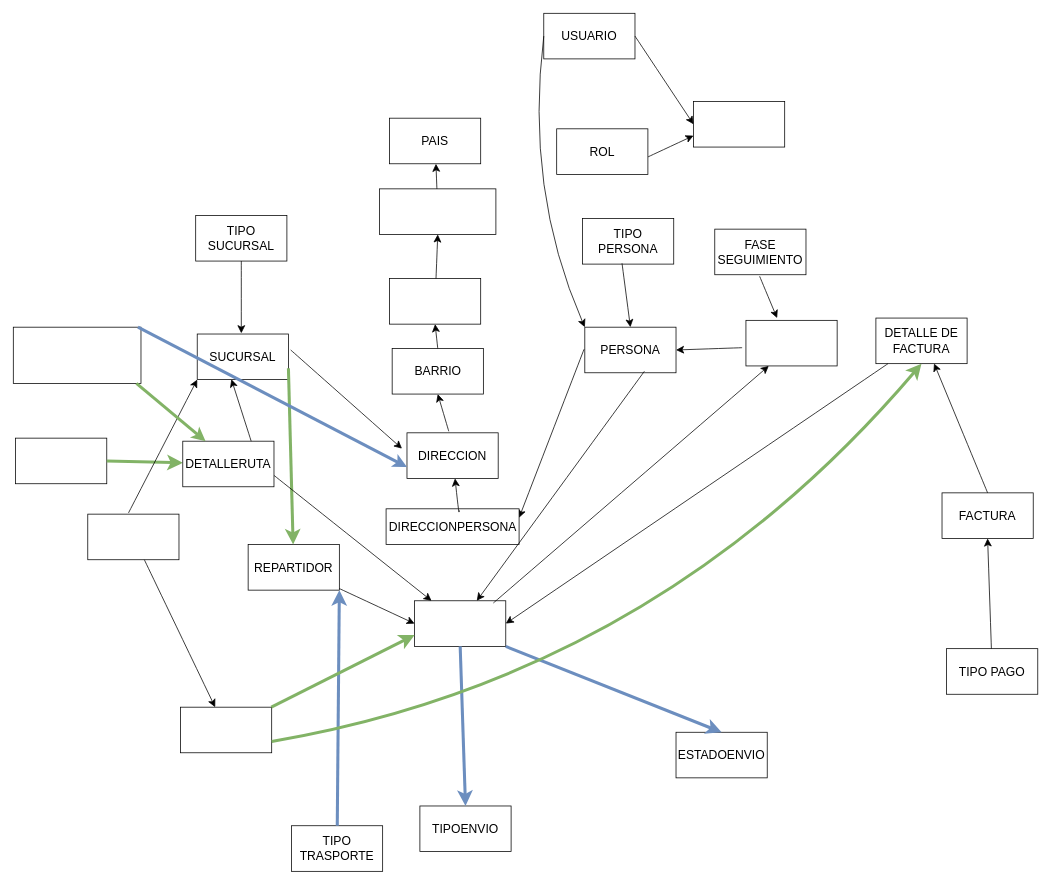
This 1051x885 diagram has some shape labels left out. Here are the shapes that lost their labels. From the top down, the box of each, then its label:
(693, 101, 785, 147): ROL_USUARIO
(379, 188, 496, 234): DEPARTAMENTO
(389, 278, 481, 324): CIUDAD
(13, 326, 141, 383): CANTIDADPARADAS
(745, 320, 837, 366): SEGUIMIENTO
(15, 437, 107, 484): RUTA
(87, 513, 179, 560): INVENTARIO
(414, 600, 506, 646): ENVIO
(180, 706, 272, 753): DESCRIPCION PAQUETE
